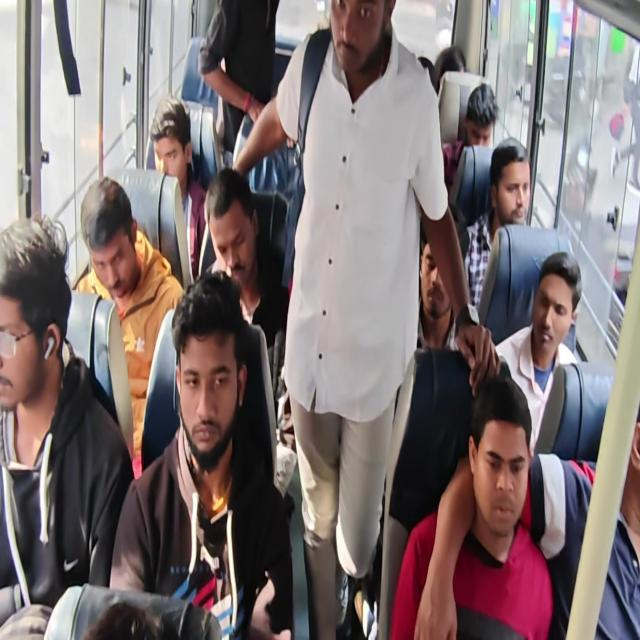person: (169, 259, 241, 467), (5, 196, 66, 412), (74, 158, 146, 294), (468, 370, 522, 540), (201, 152, 263, 285), (74, 574, 180, 640), (421, 205, 466, 340), (531, 245, 576, 359), (325, 0, 392, 72), (488, 139, 532, 231), (148, 96, 195, 182), (616, 374, 640, 534), (466, 78, 495, 147), (430, 43, 469, 94)
